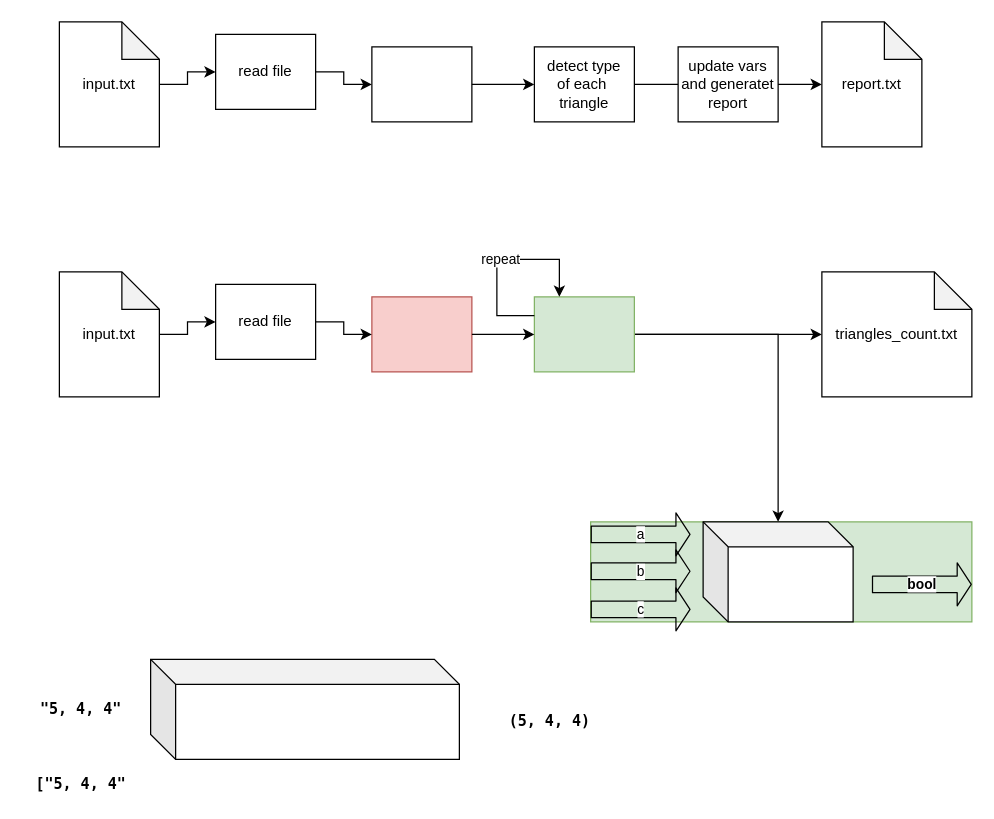
The diagram is 994 pixels wide and 819 high, and some of its shapes have lost their labels. The shapes that lost their labels are listed below. From the top down, each one's centre as x and y in pixels, then its label:
point (421, 84): extract data
point (421, 334): extract data(line)
point (583, 334): is_triangle()
point (304, 708): extract_line_data(line)
